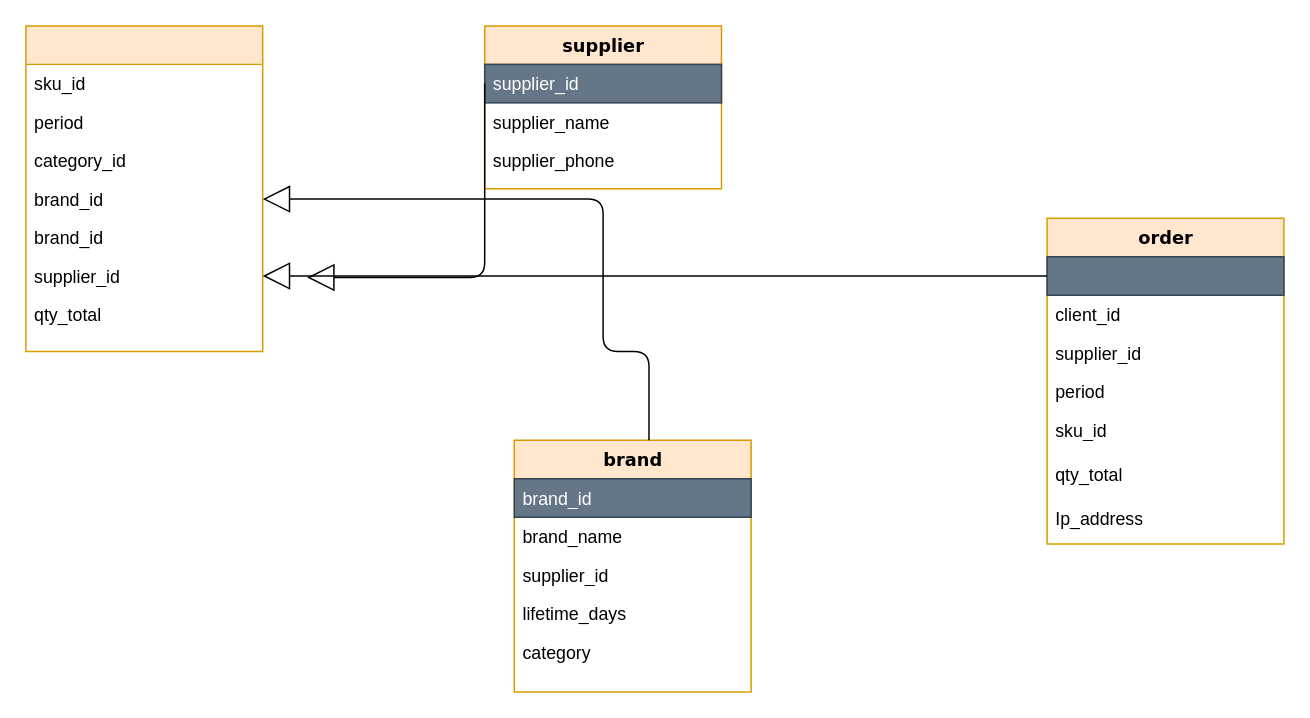
The diagram is 1310 pixels wide and 718 high, and some of its shapes have lost their labels. Here are the shapes that lost their labels. From the top down, the box of each, then its label:
(24, 24, 263, 352): product
(1046, 255, 1284, 295): order_id
